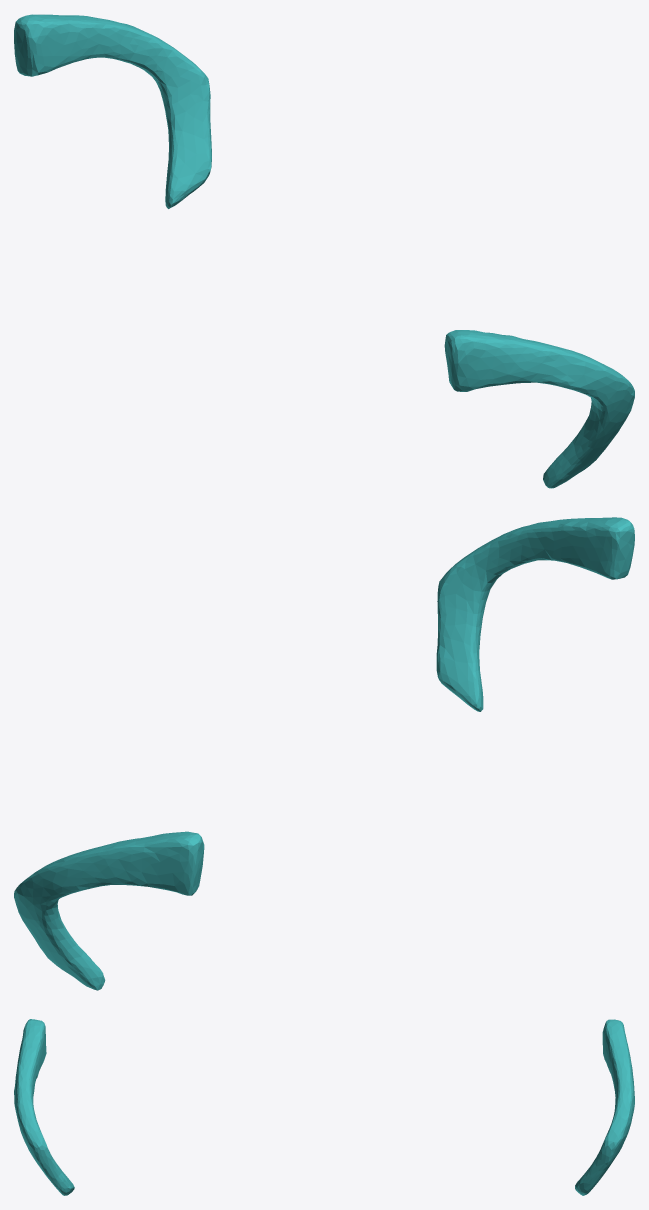
The picture shows the model from 3 angles, top to bottom: view 1: azimuth 30°, elevation 25°; view 2: azimuth 150°, elevation 25°; view 3: azimuth 270°, elevation 25°; orthographic projection. The views are drawn at different scales.
Parts seen in each view (by area): view 1: 289.obj; view 2: 289.obj; view 3: 289.obj.
Part boxes in pixels (<box>): 289.obj: <box>14,14,634,488</box>; 289.obj: <box>14,517,634,990</box>; 289.obj: <box>14,1019,634,1195</box>.
Size of the model in its own units: 2271 by 2315 by 9602.
